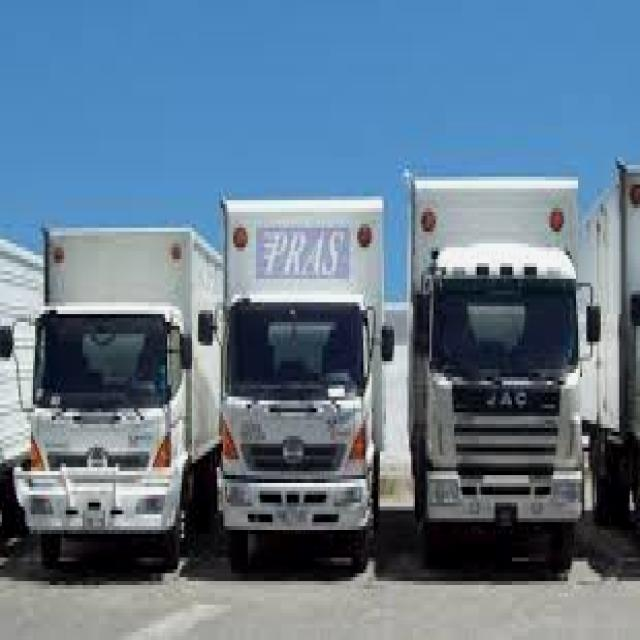TRUCK: (402, 164, 588, 567), (218, 187, 389, 573), (28, 208, 212, 562)
